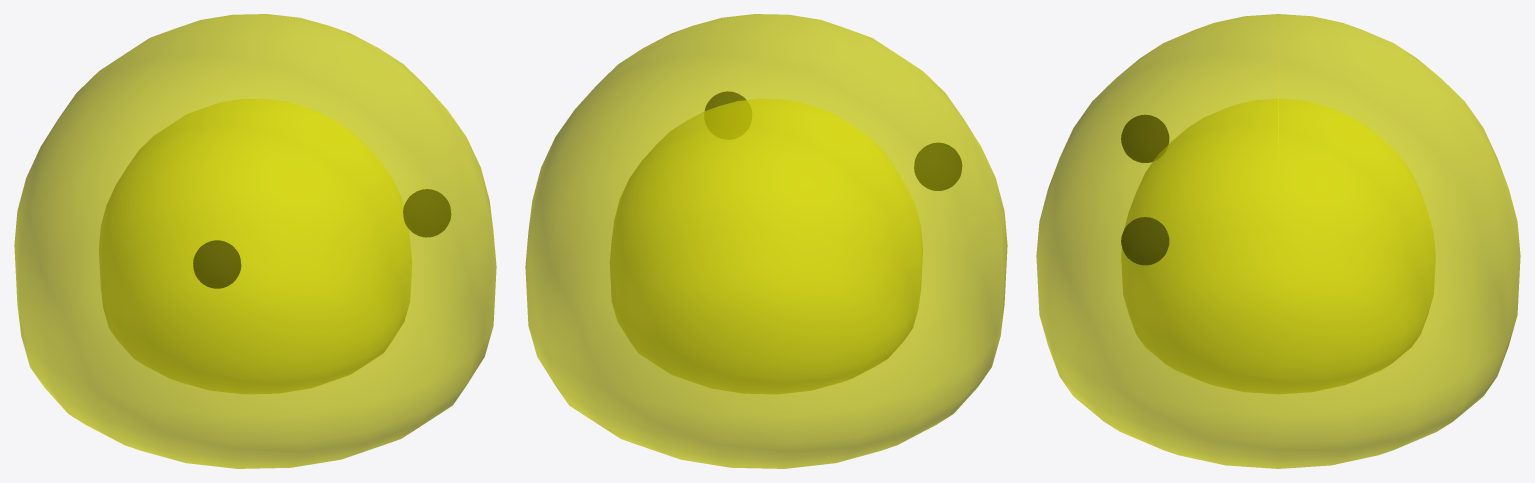
Rendered from Yellow Slime.fbx.
3 views of the same model, side by side, from view 1: azimuth 30°, elevation 25°; view 2: azimuth 150°, elevation 25°; view 3: azimuth 270°, elevation 25° (orthographic).
Visible parts, largest first — view 1: Outside.001, Inside.001, Right_eye.001, Left_eye.001; view 2: Outside.001, Inside.001, Left_eye.001; view 3: Outside.001, Inside.001, Right_eye.001, Left_eye.001.
Part boxes in pixels (left/top/right/bottom): Outside.001: left=14, top=14, right=496, bottom=468; Inside.001: left=99, top=99, right=411, bottom=393; Right_eye.001: left=403, top=189, right=451, bottom=237; Left_eye.001: left=193, top=240, right=241, bottom=288; Outside.001: left=525, top=14, right=1007, bottom=468; Inside.001: left=610, top=99, right=922, bottom=393; Left_eye.001: left=914, top=142, right=962, bottom=190; Outside.001: left=1036, top=14, right=1520, bottom=468; Inside.001: left=1121, top=99, right=1435, bottom=393; Right_eye.001: left=1121, top=217, right=1169, bottom=265; Left_eye.001: left=1121, top=114, right=1169, bottom=162.
Size of the model in its own units: 100 by 89.58 by 100.
